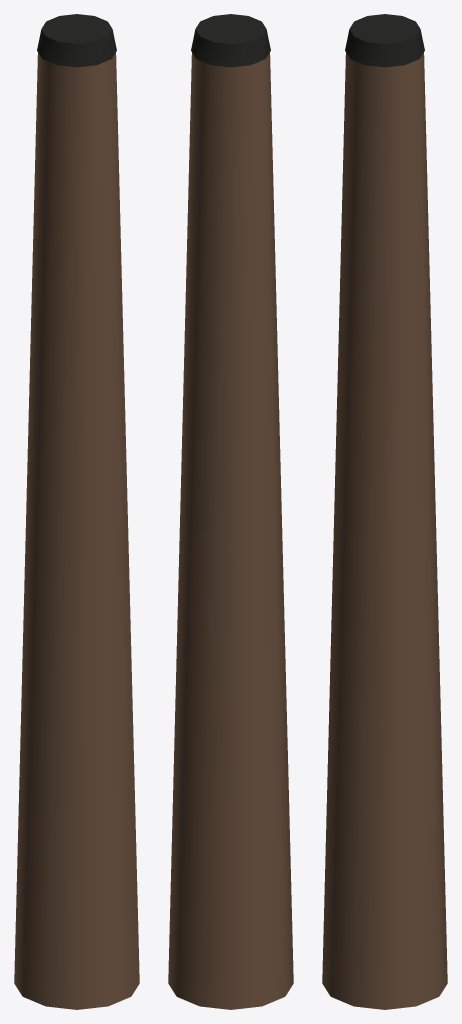
File: landmark-chimney.glb
3 views of the same model, side by side, from view 1: azimuth 90°, elevation 25°; view 2: azimuth 150°, elevation 25°; view 3: azimuth 270°, elevation 25° (orthographic).
Size of the model in its own units: 3.7 by 31.05 by 3.7.
